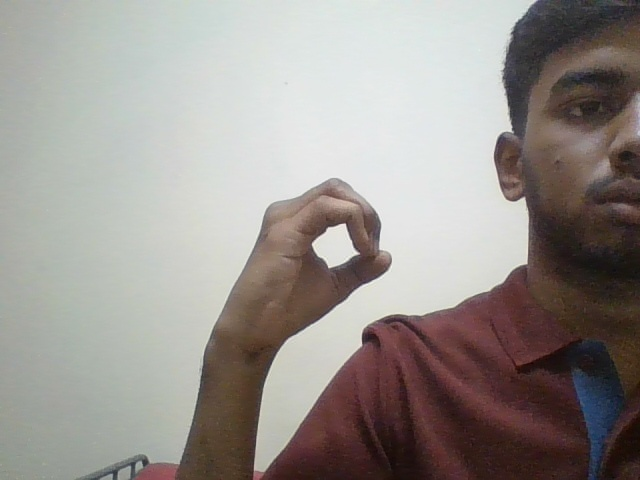O: (202, 173, 397, 338)
